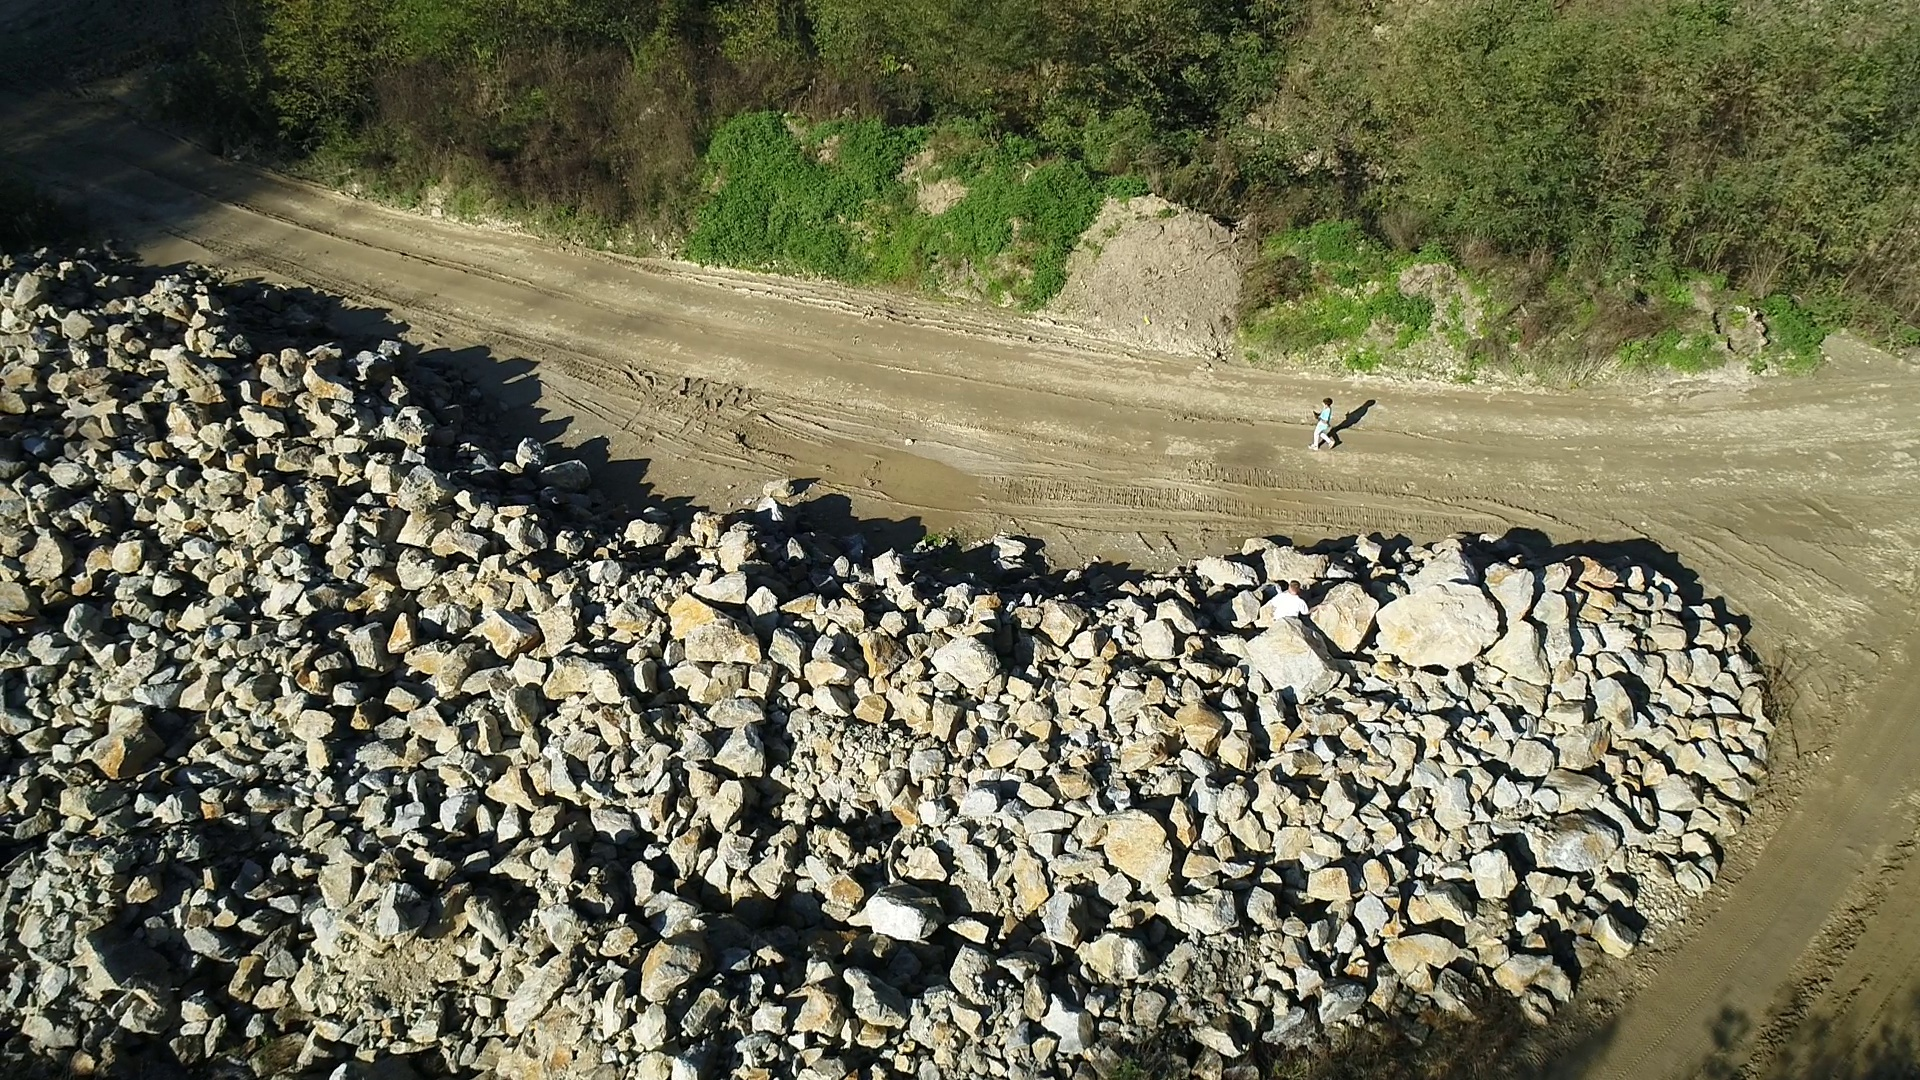person: (1271, 579, 1329, 628), (1307, 397, 1336, 450)
